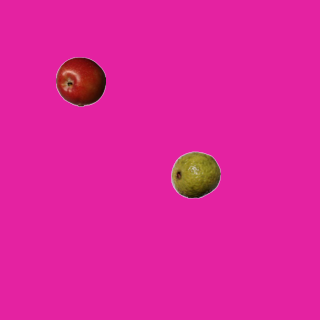Apple Braeburn: (55, 56, 105, 106)
Guava: (170, 149, 220, 199)
